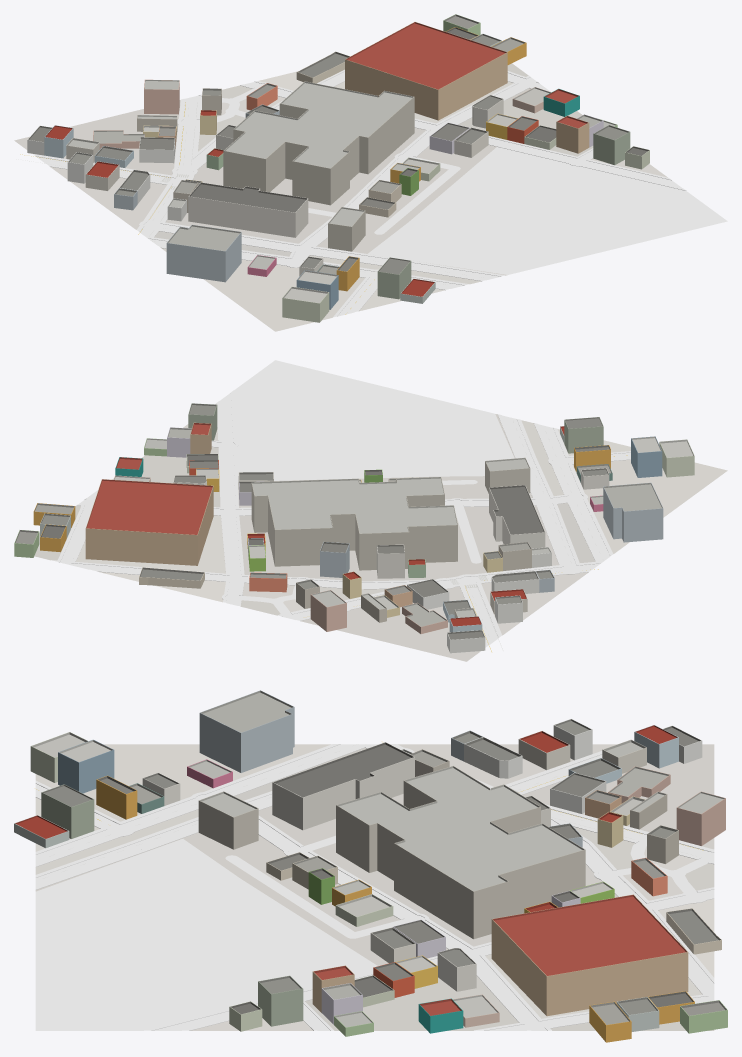
3 views of the same model, one above another, from view 1: azimuth 30°, elevation 25°; view 2: azimuth 150°, elevation 25°; view 3: azimuth 270°, elevation 25° (orthographic). The views are drawn at different scales.
Parts seen in each view (by area): view 1: walls, roofs, grass, ground, asphalt, sidewalk; view 2: walls, roofs, grass, ground, asphalt, sidewalk; view 3: walls, roofs, grass, ground, asphalt, sidewalk.
Boxes of the visible parts, x1=… form: walls: x1=27, y1=20, x2=649, y2=322; roofs: x1=27, y1=14, x2=649, y2=303; grass: x1=368, y1=147, x2=727, y2=274; ground: x1=14, y1=63, x2=667, y2=331; asphalt: x1=36, y1=71, x2=682, y2=316; sidewalk: x1=33, y1=69, x2=686, y2=317; walls: x1=14, y1=405, x2=694, y2=653; roofs: x1=14, y1=403, x2=694, y2=639; grass: x1=234, y1=360, x2=514, y2=481; ground: x1=34, y1=403, x2=727, y2=661; asphalt: x1=59, y1=393, x2=630, y2=645; sidewalk: x1=51, y1=390, x2=630, y2=647; walls: x1=14, y1=707, x2=727, y2=1042; roofs: x1=14, y1=690, x2=727, y2=1027; grass: x1=35, y1=839, x2=377, y2=1030; ground: x1=35, y1=744, x2=714, y2=1030; asphalt: x1=35, y1=744, x2=714, y2=1030; sidewalk: x1=35, y1=744, x2=714, y2=1030.
Size of what is drawn, in the model's own units: 272 by 19.34 by 263.
